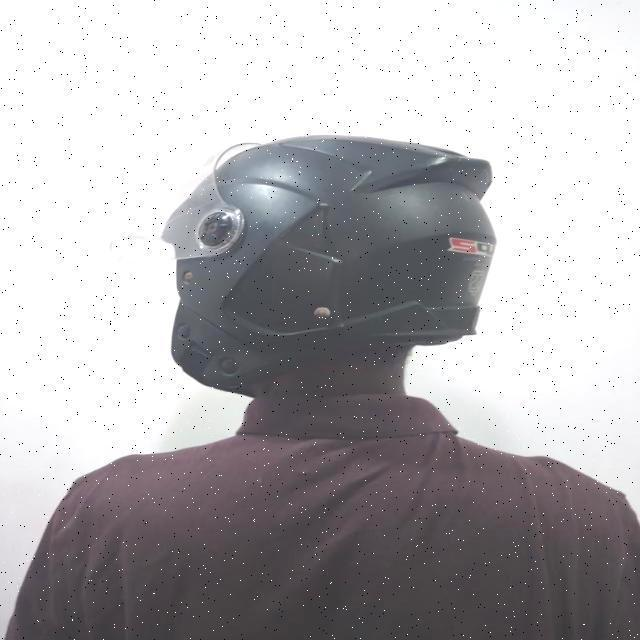helmet: (164, 130, 496, 406)
